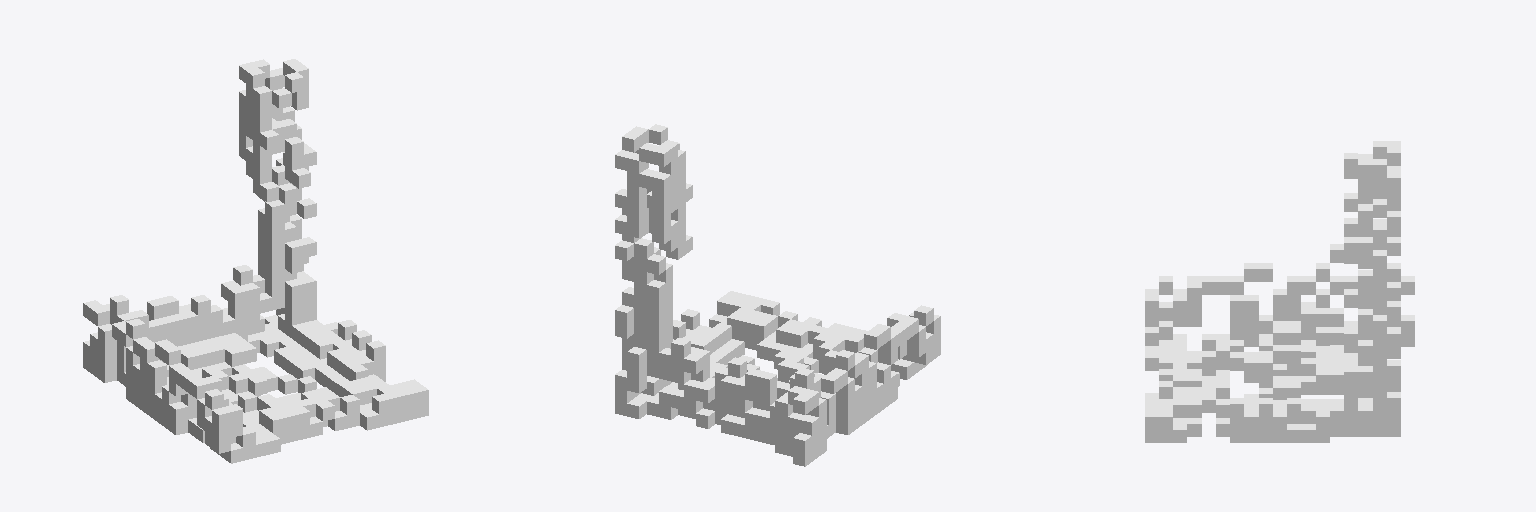
File: hut_Destroyed.obj
3 views of the same model, side by side, from view 1: azimuth 30°, elevation 25°; view 2: azimuth 150°, elevation 25°; view 3: azimuth 270°, elevation 25° (orthographic).
Parts seen in each view (by area): view 1: hut_Destroyed; view 2: hut_Destroyed; view 3: hut_Destroyed.
Part boxes in pixels (x1,y1,x2,y2): hut_Destroyed: (83, 59, 428, 463); hut_Destroyed: (615, 124, 940, 466); hut_Destroyed: (1145, 141, 1414, 442).
Size of the model in its own units: 17 by 21 by 19.